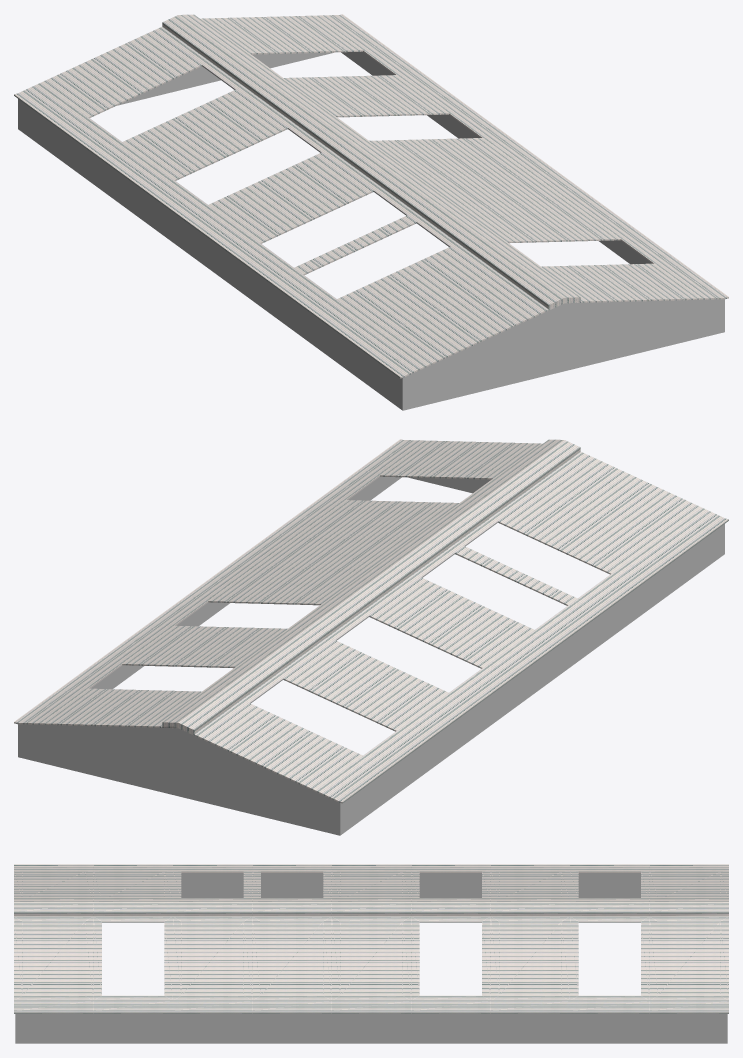
Rendered from BLDG_Roof.FBX.
3 renders of one model, top to bottom at view 1: azimuth 30°, elevation 25°; view 2: azimuth 150°, elevation 25°; view 3: azimuth 270°, elevation 25°, orthographic. The views are drawn at different scales.
Parts seen in each view (by area): view 1: Roofing, Wall005, Wall006, Wall007, Wall004; view 2: Roofing, Wall004, Wall006, Wall007, Wall005; view 3: Roofing, Wall007, Wall006.
Boxes of the visible parts, left/top/right/bottom form: Roofing: left=14, top=14, right=728, bottom=378; Wall005: left=404, top=299, right=723, bottom=410; Wall006: left=18, top=99, right=404, bottom=410; Wall007: left=341, top=51, right=724, bottom=332; Wall004: left=117, top=52, right=333, bottom=105; Roofing: left=14, top=439, right=728, bottom=803; Wall004: left=19, top=724, right=338, bottom=835; Wall006: left=338, top=524, right=724, bottom=835; Wall007: left=18, top=476, right=401, bottom=757; Wall005: left=409, top=477, right=490, bottom=493; Roofing: left=14, top=864, right=728, bottom=1013; Wall007: left=15, top=1014, right=727, bottom=1043; Wall006: left=181, top=873, right=640, bottom=898.
Bounding box in the file's own units: 2470 × 534 × 5030.
